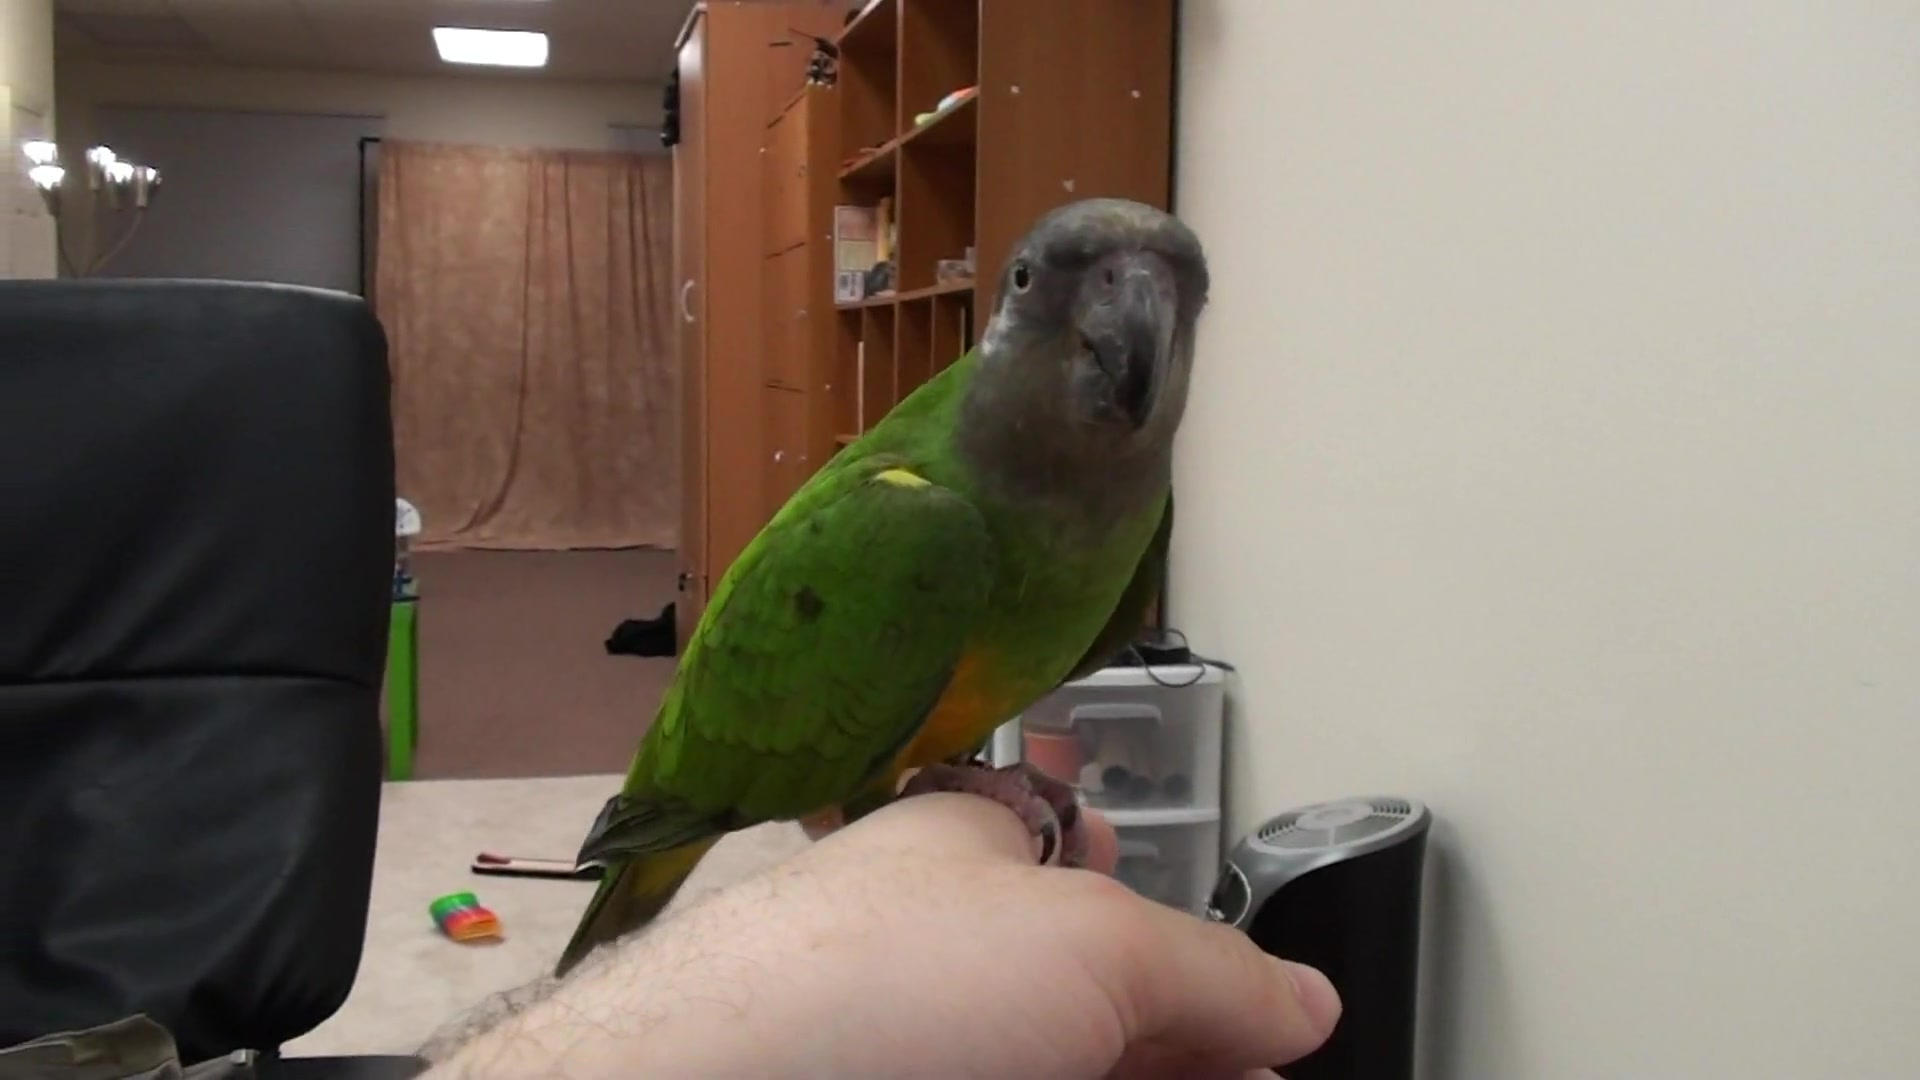bird: (555, 200, 1216, 978)
